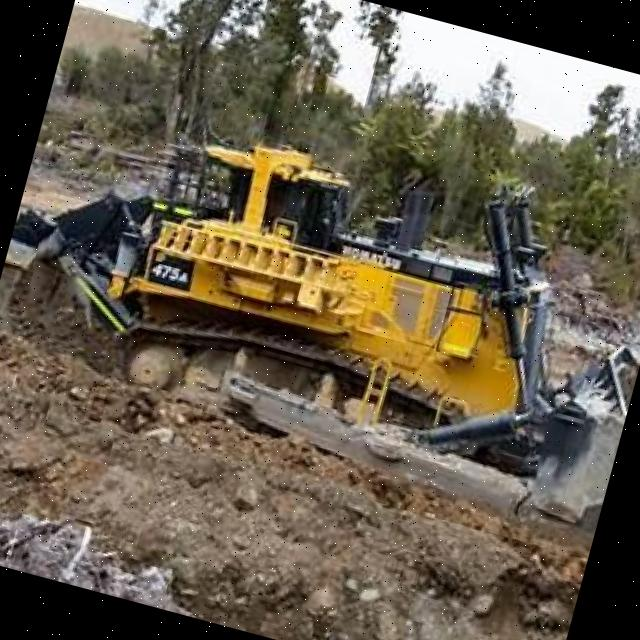Bulldozer: (0, 86, 640, 591)
